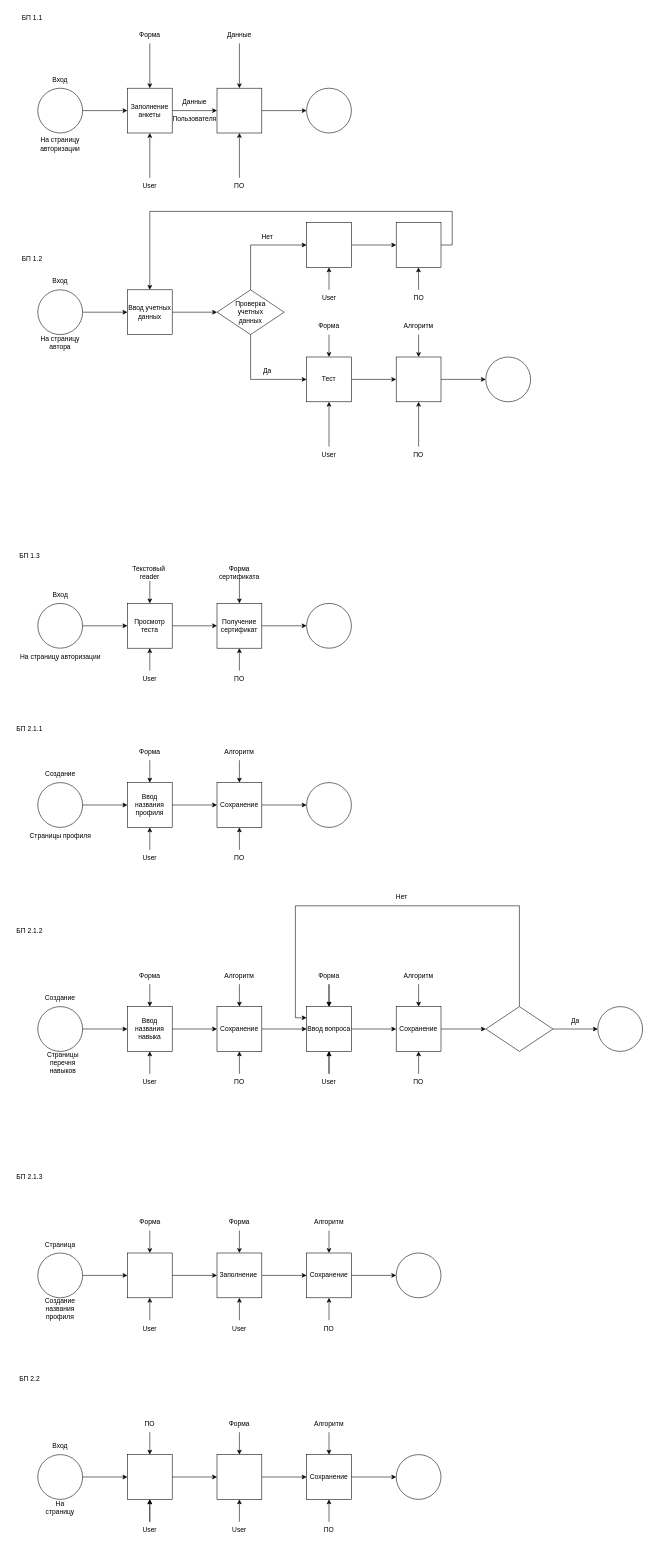
Some shapes in this 652 by 1548 pixel diagram are drawn without their labels. Each missing label, with the box of its shape:
Выбор подготовки файла: (127, 1454, 172, 1499)
Выбор профиля: (127, 1252, 172, 1298)
Выбор сертификата: (216, 1454, 262, 1499)
Дать новый пароль: (396, 222, 441, 267)
Проверка полного количества вопросов: (485, 1006, 553, 1051)
Создание учетной записи: (216, 88, 262, 133)
Сохранение результатов: (396, 356, 441, 402)
Требования на логин: (306, 222, 351, 267)
